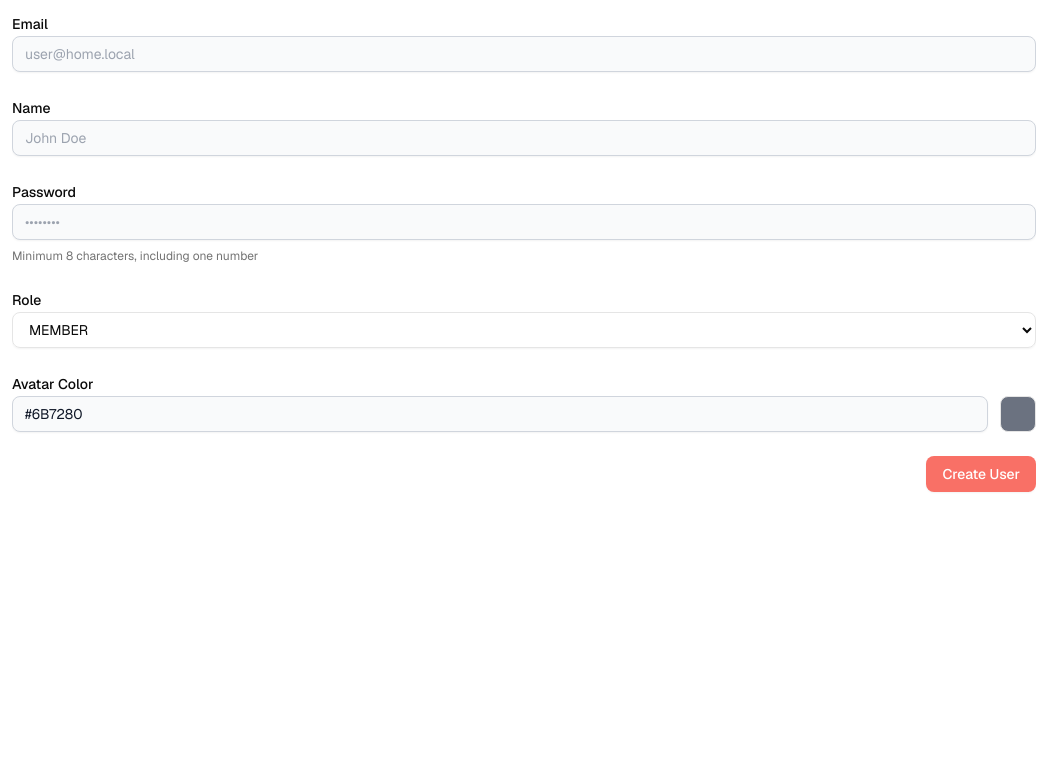
Test: UserForm Component › Error Handling › should display general error message on server error
Note: Fill and submit
Type "test@example.com" into the field labelled "Email".
click(524, 54); type("test@example.com")  # box x1=12 y1=36 x2=1036 y2=72
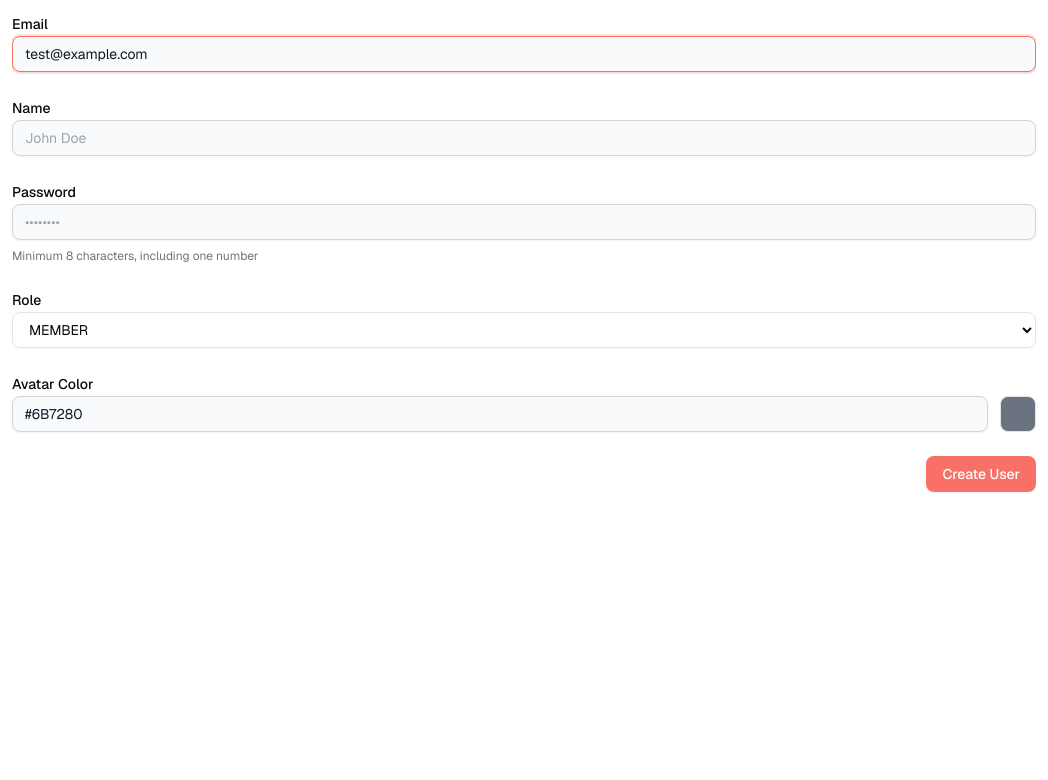
Type "Test User" into the field labelled "Name".
click(524, 138); type("Test User")  # box x1=12 y1=120 x2=1036 y2=156
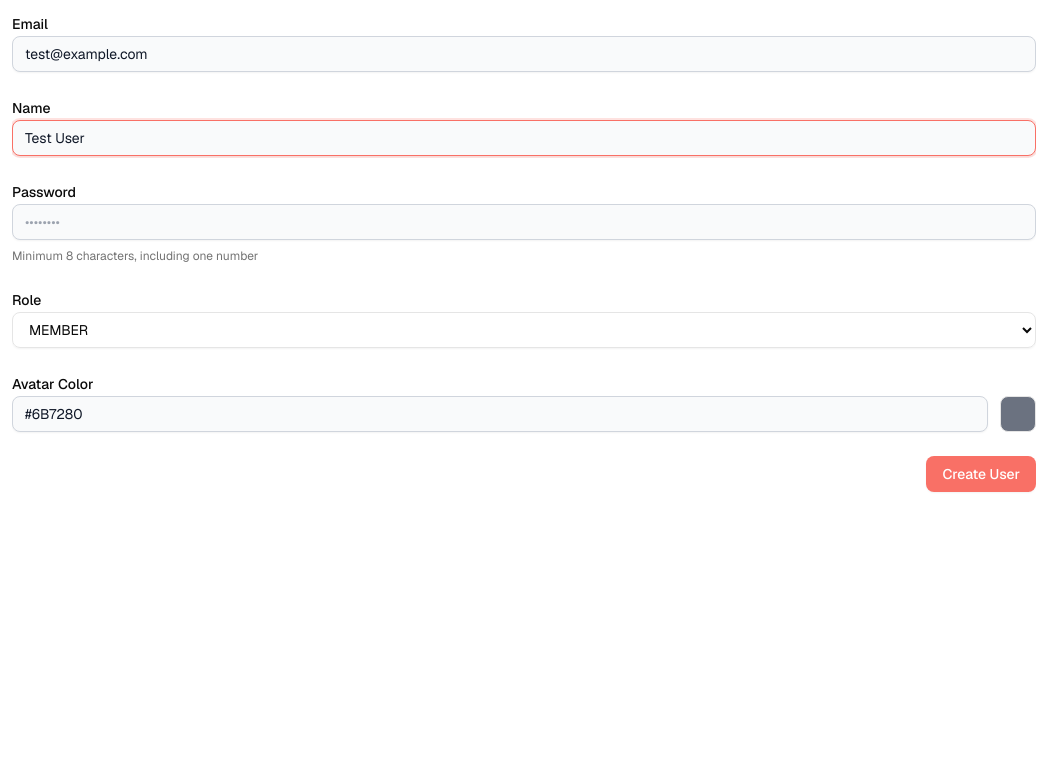
Type "TestPass123" into the password field labelled "Password".
click(524, 222); type("TestPass123")  # box x1=12 y1=204 x2=1036 y2=240
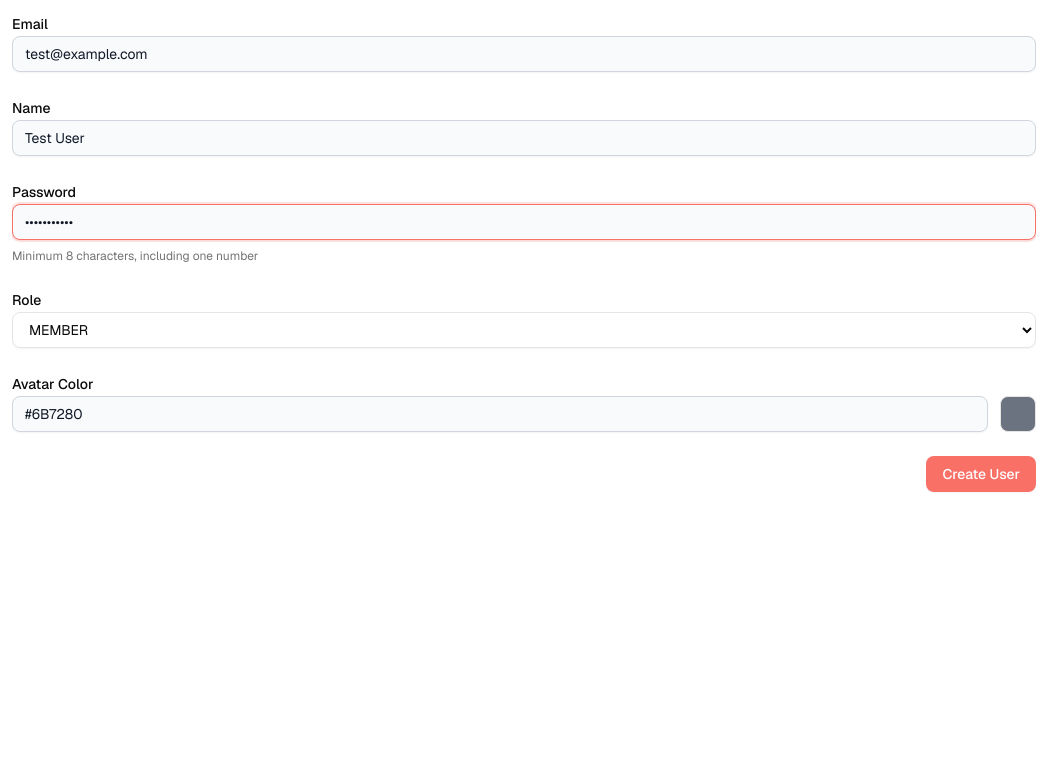
Click the button "Create User".
click(981, 474)  # box x1=926 y1=456 x2=1036 y2=492
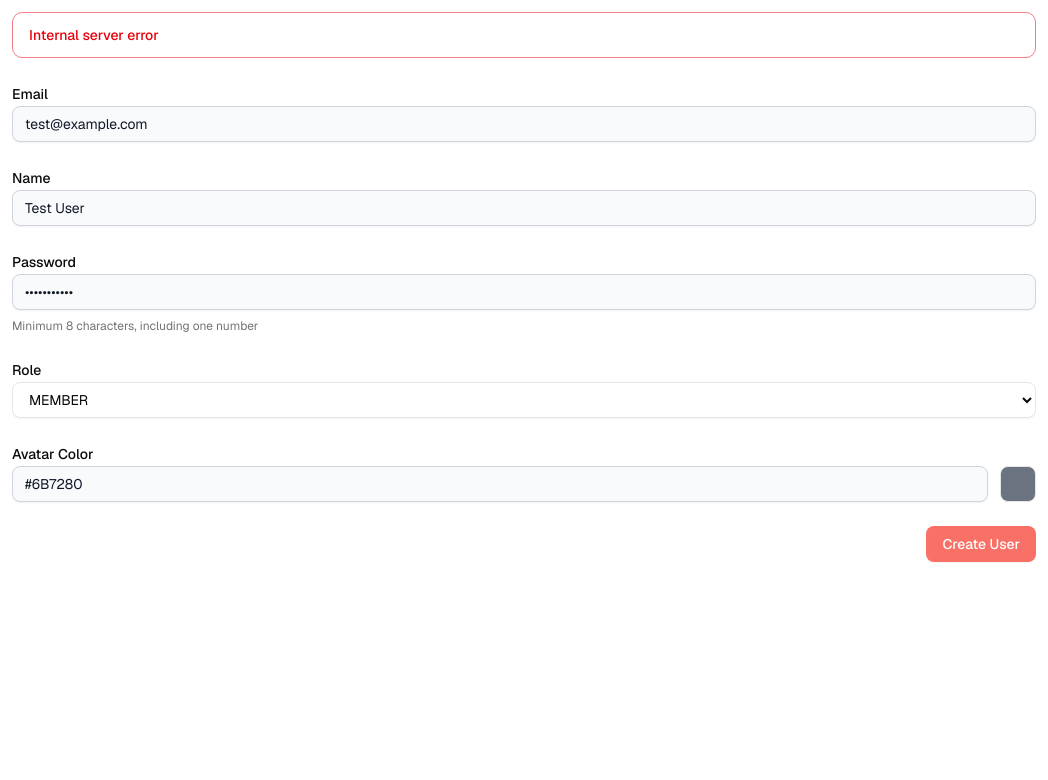
Now the text "Internal server error" is shown, box x1=29 y1=26 x2=159 y2=44
